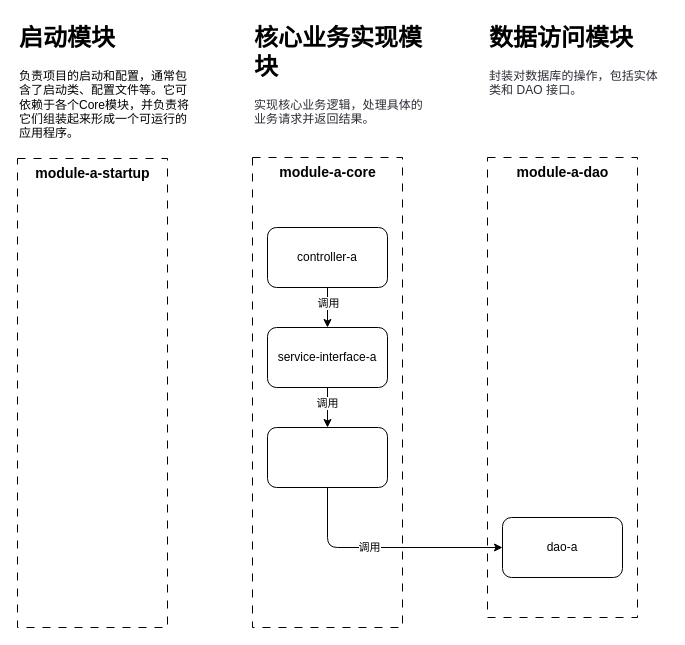
Some shapes in this 685 by 645 pixel diagram are drawn without their labels. The shapes that lost their labels are listed below. From the top down, each one's box as (x1, y1, x2, y2) in pixels, then its label:
(16, 158, 168, 628): 模块a的启动模块 无业务代码
(266, 426, 388, 488): service-impl-a
